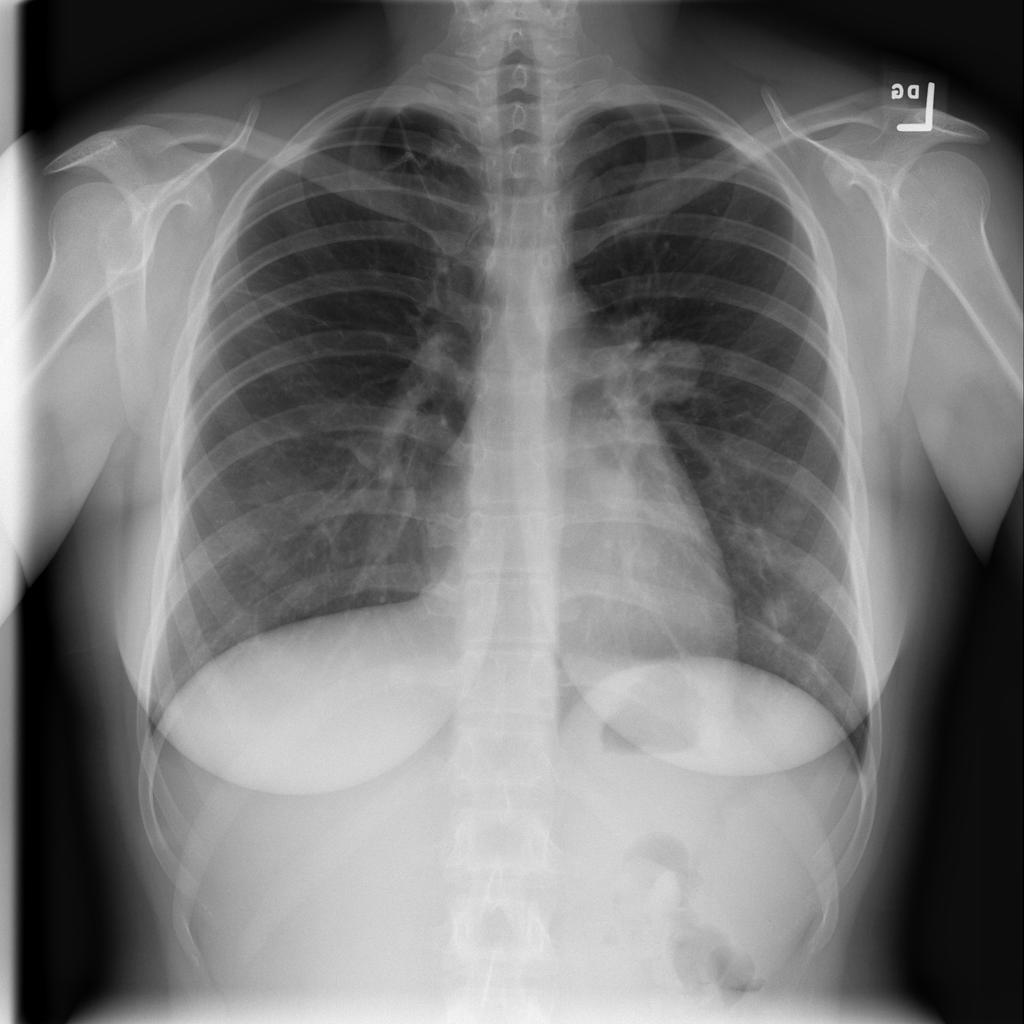nodule: (629, 331, 711, 411), (571, 453, 651, 521), (739, 573, 809, 640), (620, 529, 671, 582), (810, 572, 859, 623), (768, 490, 820, 538)
